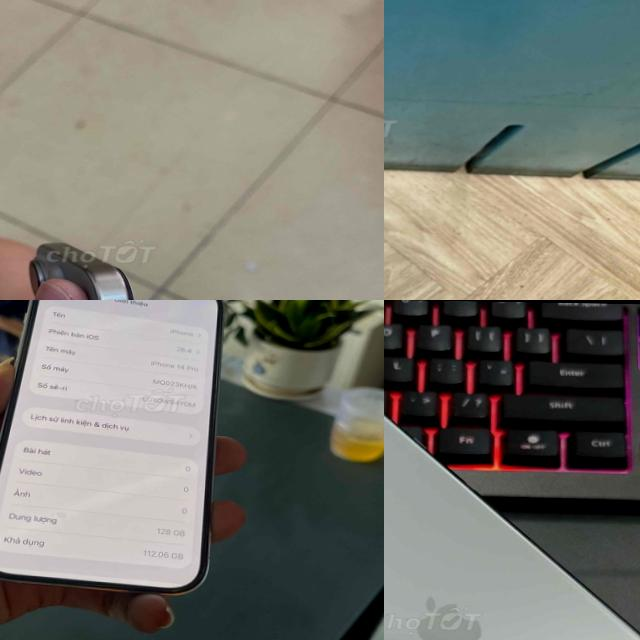gen_11: (384, 415, 640, 640)
gen_14: (0, 300, 233, 601)
